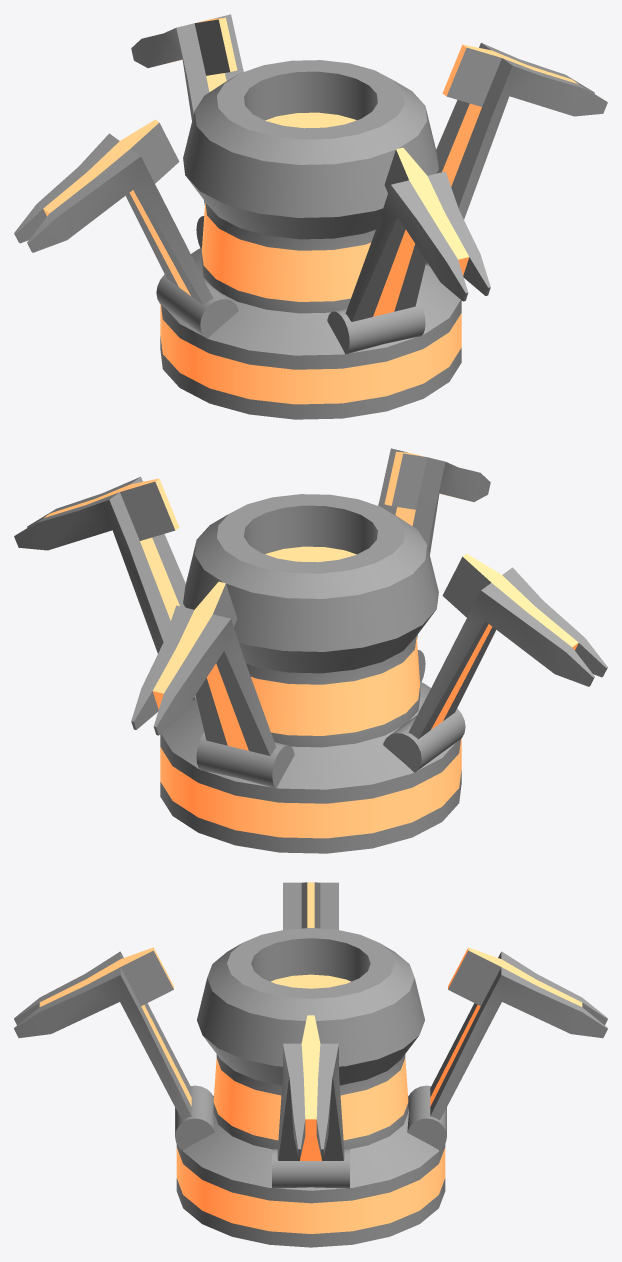
File: Trap_1.fbx
3 views of the same model, one above another, from view 1: azimuth 30°, elevation 25°; view 2: azimuth 150°, elevation 25°; view 3: azimuth 270°, elevation 25° (orthographic). The views are drawn at different scales.
Visible parts, largest first — view 1: pCylinder1, Arm1, Arm4, Arm2, Arm3; view 2: pCylinder1, Arm3, Arm4, Arm2, Arm1; view 3: pCylinder1, Arm1, Arm3, Arm2, Arm4.
Part boxes in pixels (x1,y1,x2,y2): pCylinder1: [160, 60, 461, 419]; Arm1: [327, 147, 490, 354]; Arm4: [14, 119, 238, 338]; Arm2: [426, 42, 607, 266]; Arm3: [131, 14, 243, 247]; pCylinder1: [160, 494, 461, 853]; Arm3: [131, 581, 294, 788]; Arm4: [383, 553, 607, 772]; Arm2: [14, 476, 195, 700]; Arm1: [378, 448, 490, 681]; pCylinder1: [176, 928, 445, 1247]; Arm1: [14, 947, 214, 1150]; Arm3: [407, 947, 607, 1150]; Arm2: [272, 1015, 349, 1188]; Arm4: [283, 882, 338, 929].
Bounding box in the file's own units: 1.03 × 0.4607 × 1.03.
